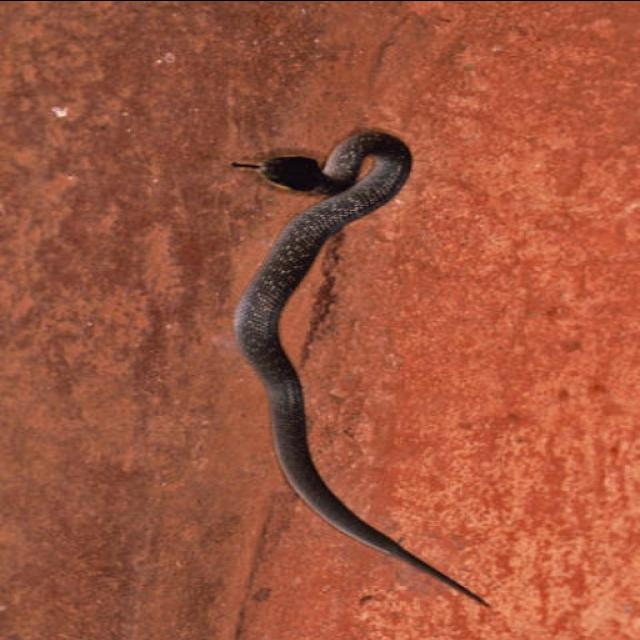snake: (225, 120, 517, 618)
